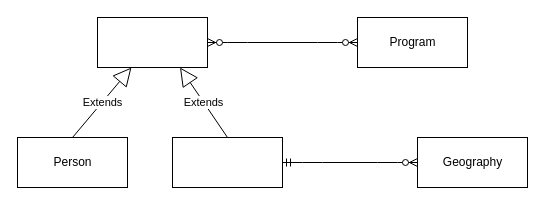
This 545x205 diagram has some shape labels left out. The shapes that lost their labels are listed below. From the top down, each one's centre as x and y in pixels, then its label:
the point at 152,42: Entity
the point at 227,162: Facility
